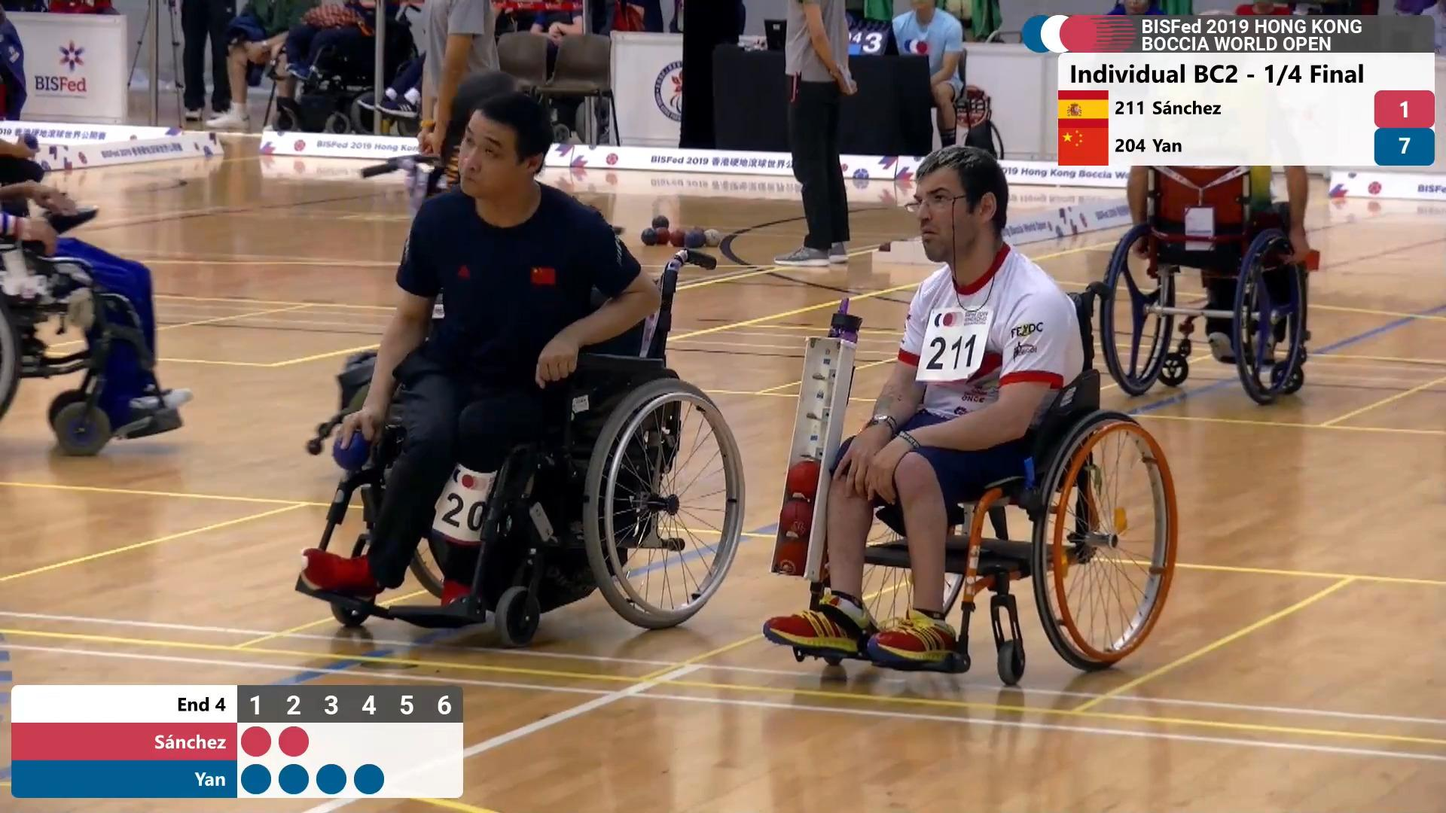blue_ball: (333, 432, 371, 471), (685, 229, 705, 249), (651, 214, 671, 231), (641, 227, 657, 246)
red_ball: (672, 228, 687, 248), (655, 227, 670, 247)
white_ball: (705, 228, 721, 248)
